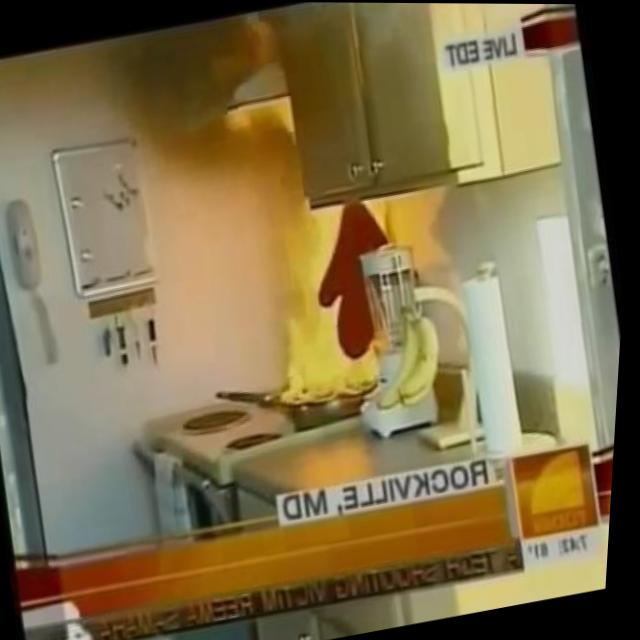fire: (207, 76, 426, 417)
